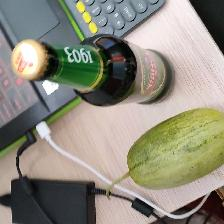gua: (118, 117, 220, 187)
